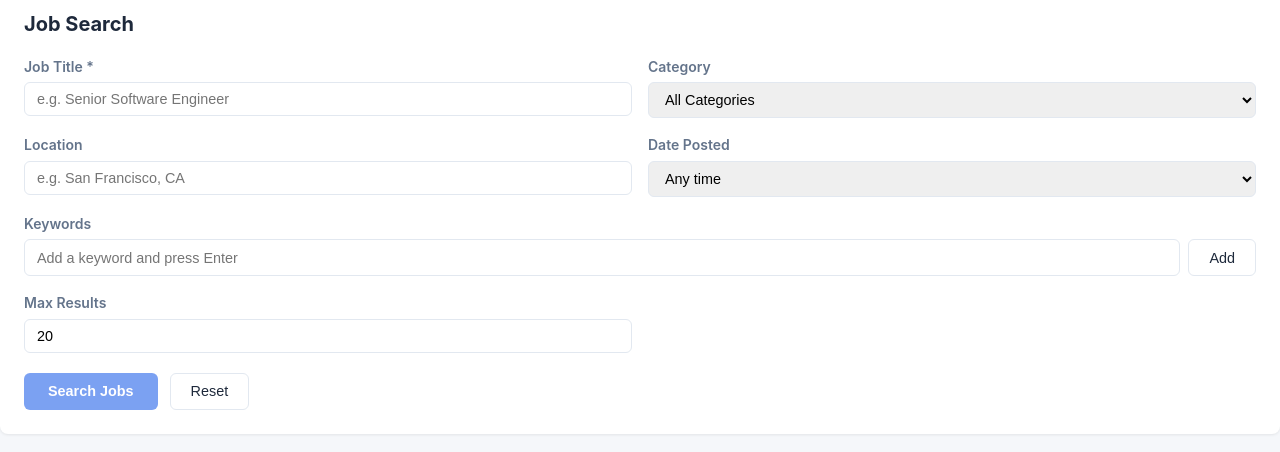
Test case: SearchForm › resets form on Reset button click
Type "Developer" into the field labelled "Job Title *". click: (328, 99)
box: [24,82,632,116]
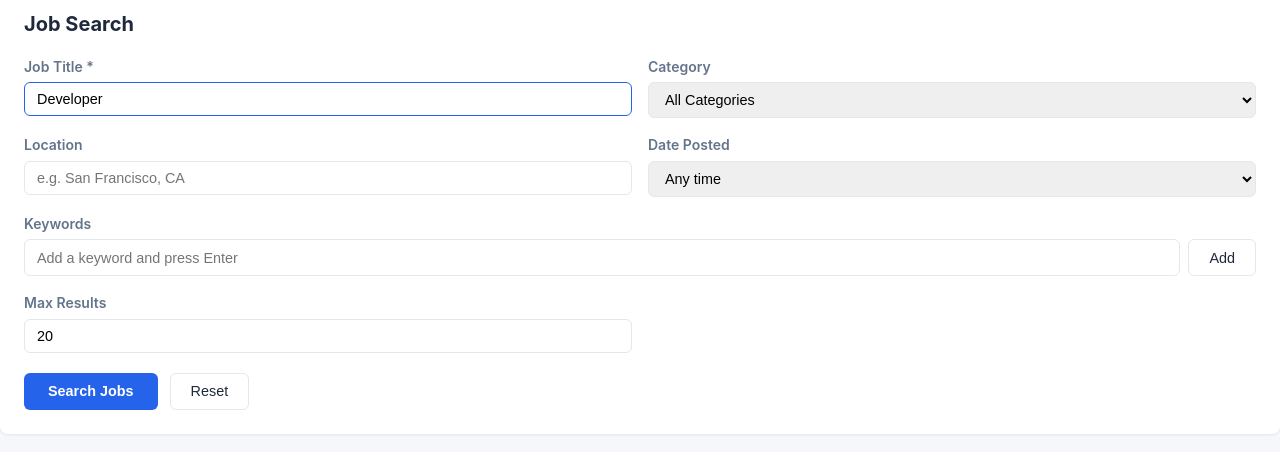
Click the button "Reset". click: (209, 391)
box: [170,373,249,410]
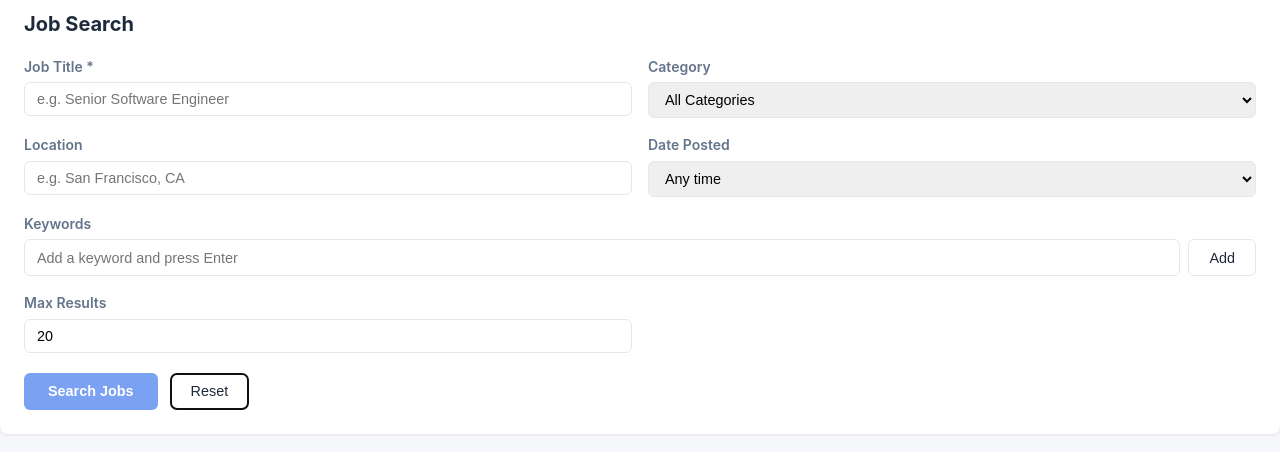
Check: the field labelled "Job Title *" is empty, box [24,82,632,116]
